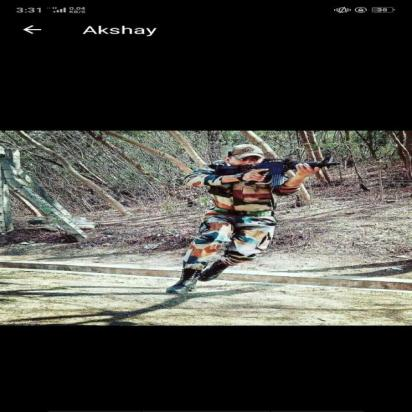Gun: (213, 156, 343, 187)
